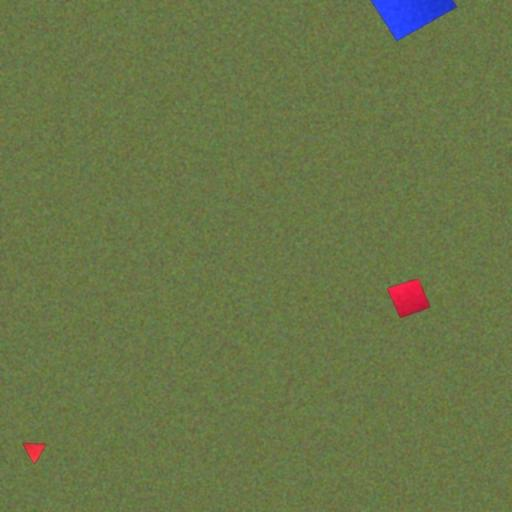BLUE_SQUARE: (362, 0, 458, 42)
RED_SQUARE: (386, 278, 431, 320)
